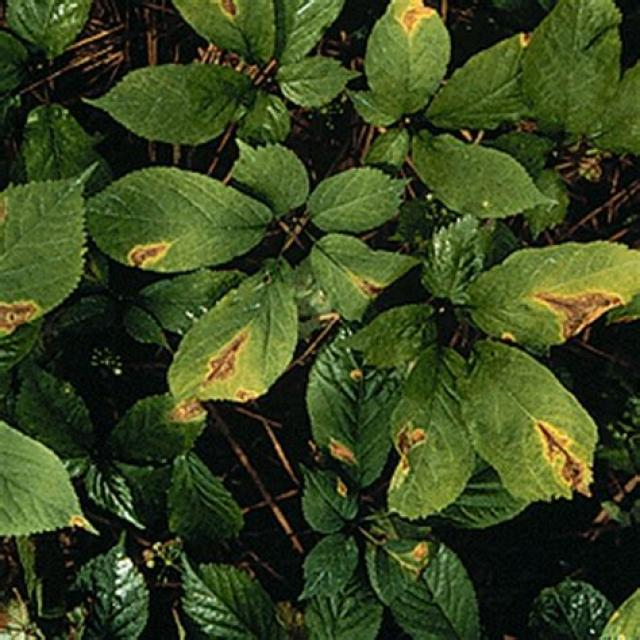blight: (525, 412, 594, 505), (540, 276, 616, 340), (208, 314, 249, 394), (128, 231, 171, 281)
